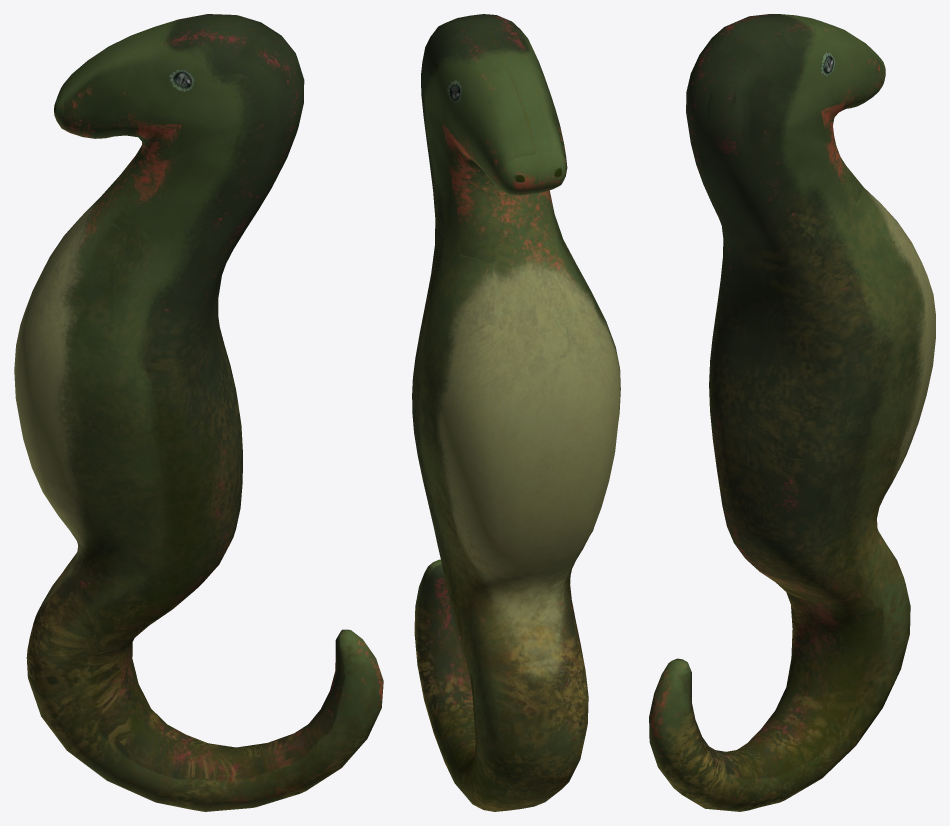
The model's file is SnakeDragon.gltf.glb.
3 renders of one model, left to right at view 1: azimuth 30°, elevation 25°; view 2: azimuth 150°, elevation 25°; view 3: azimuth 270°, elevation 25°, orthographic. The views are drawn at different scales.
Visible parts, largest first — view 1: DragonSnake; view 2: DragonSnake; view 3: DragonSnake.
Part boxes in pixels (bbox=[...]): DragonSnake: bbox=[14, 14, 383, 811]; DragonSnake: bbox=[412, 14, 620, 811]; DragonSnake: bbox=[649, 14, 935, 811].
Size of what is drawn, in the model's own units: 1.53 by 4.14 by 1.38.
Materials: 1 (1 with a texture image).
